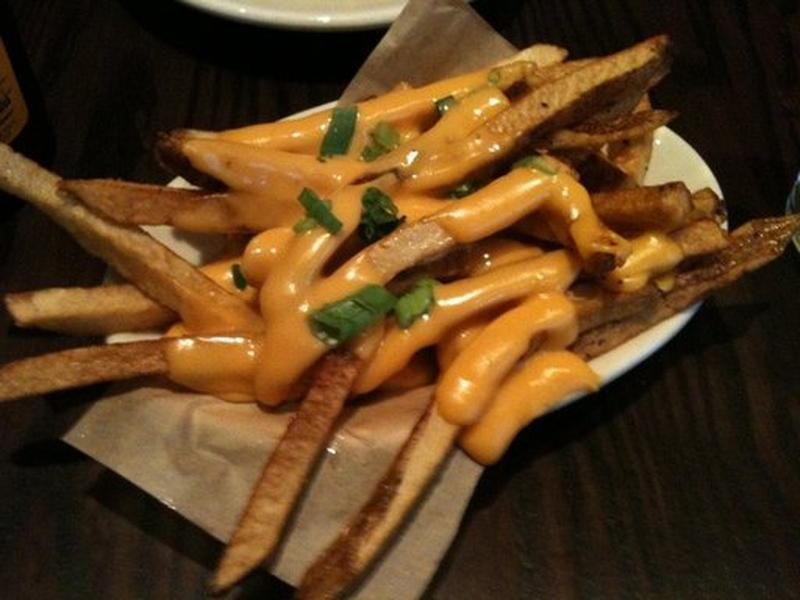french_fries: (78, 48, 661, 545)
